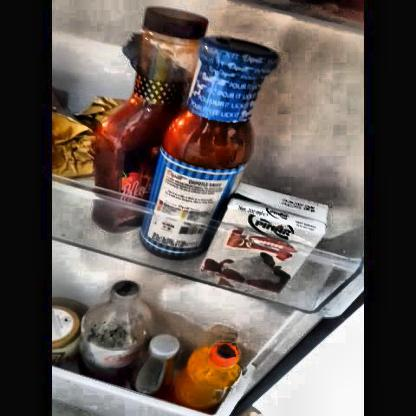heavy_cream: (212, 188, 323, 286)
